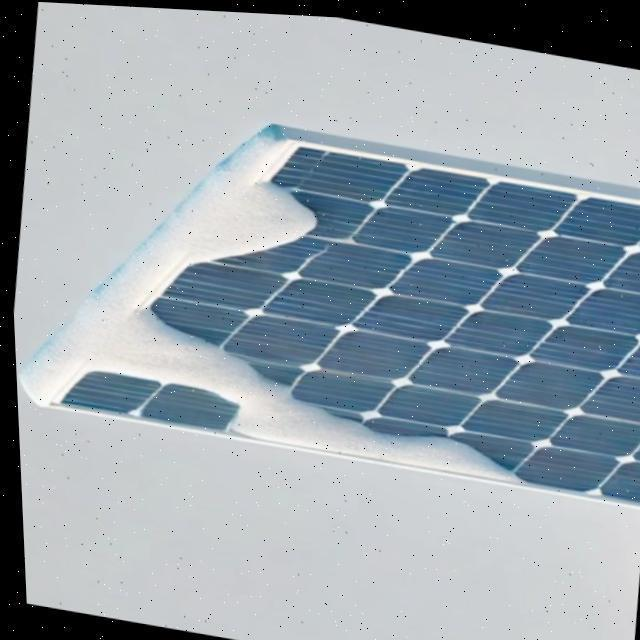Anomaly Solar Panel: (47, 109, 640, 499)
Snow: (79, 292, 533, 547), (154, 167, 321, 273)
